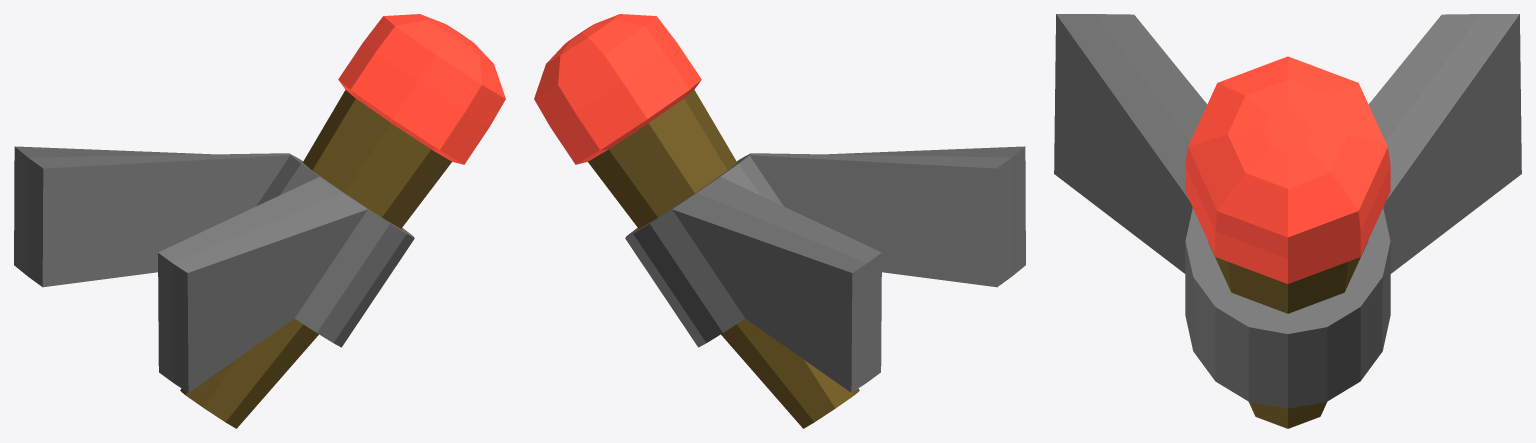
Rendered from Environment Wall Torch.fbx.
3 renders of one model, left to right at view 1: azimuth 30°, elevation 25°; view 2: azimuth 150°, elevation 25°; view 3: azimuth 270°, elevation 25°, orthographic. The views are drawn at different scales.
Visible parts, largest first — view 1: Cube.001; view 2: Cube.001; view 3: Cube.001.
Boxes of the visible parts, bbox=[...] form: Cube.001: bbox=[14, 14, 505, 428]; Cube.001: bbox=[534, 14, 1025, 428]; Cube.001: bbox=[1054, 14, 1521, 428].
Bounding box in the file's own units: 87.43 × 75.98 × 67.12.
